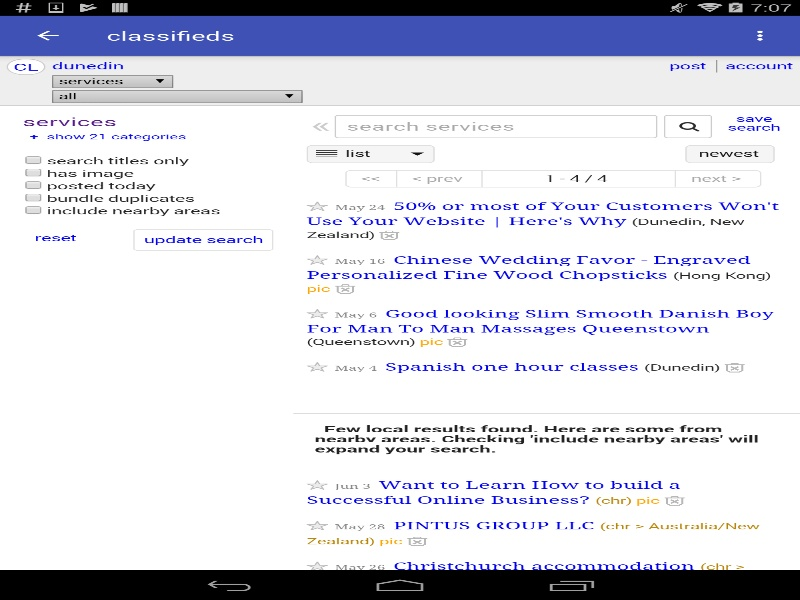Button: (52, 90, 304, 103), (133, 229, 274, 251), (10, 15, 85, 55), (308, 147, 433, 165), (52, 75, 174, 88), (664, 115, 713, 138)
Input: (334, 115, 658, 138)
